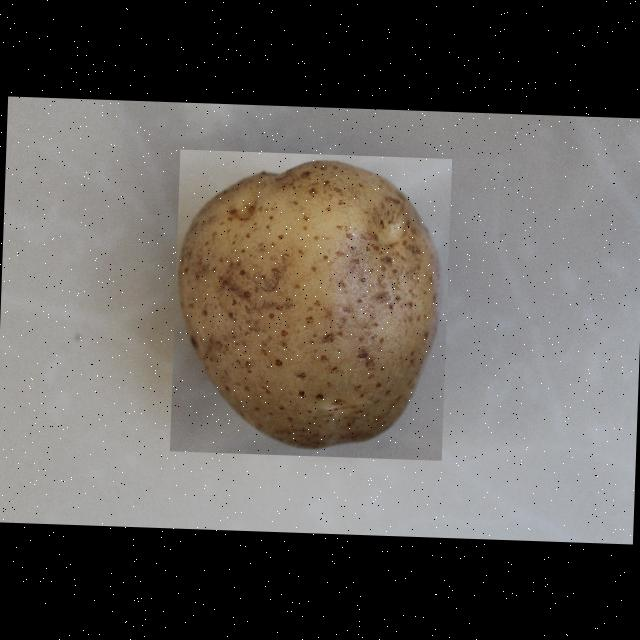Diseased-fungal potato: (170, 149, 452, 460)
